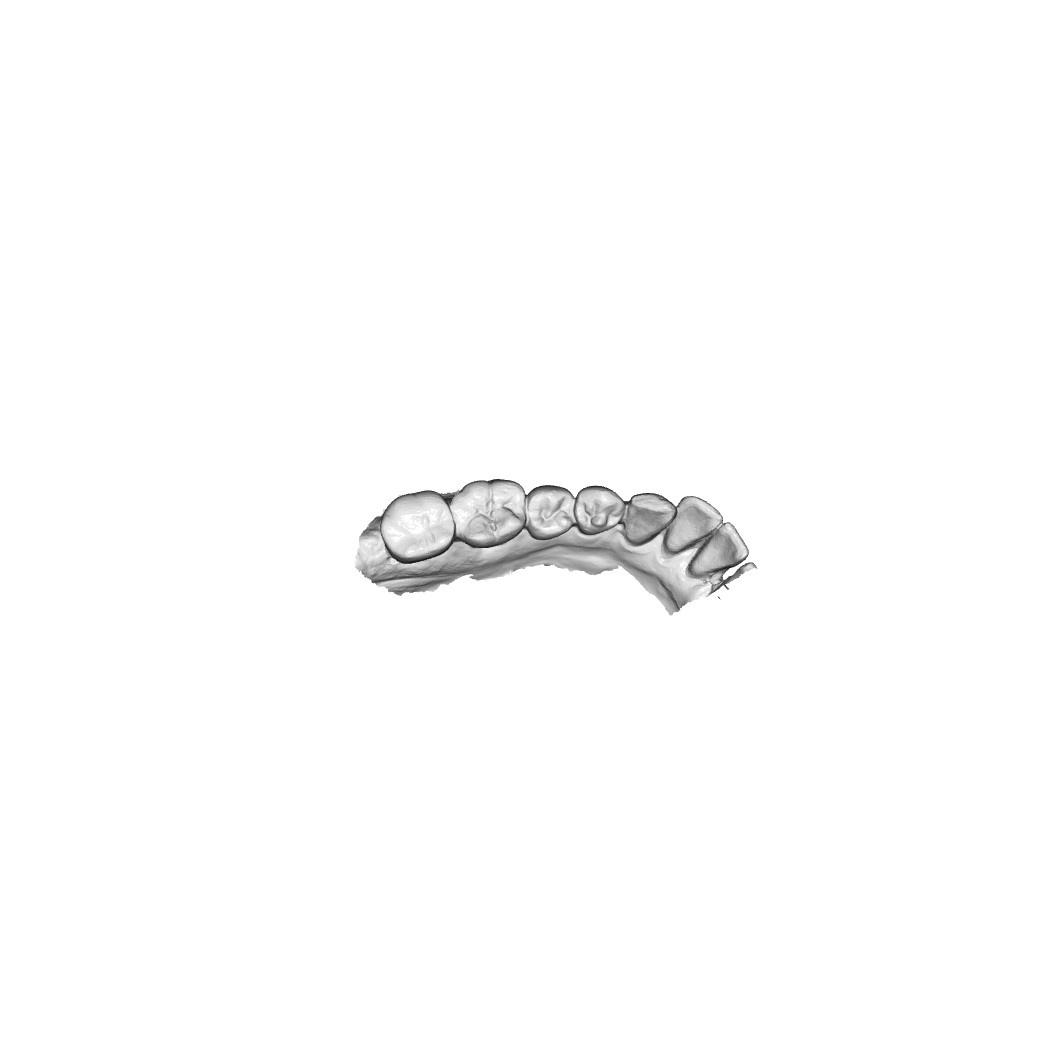canine: (622, 490, 675, 552)
incisor: (665, 493, 722, 558), (693, 521, 748, 576)
molar: (447, 478, 530, 548), (380, 489, 457, 564)
premolar: (525, 487, 576, 536), (577, 485, 623, 534)
